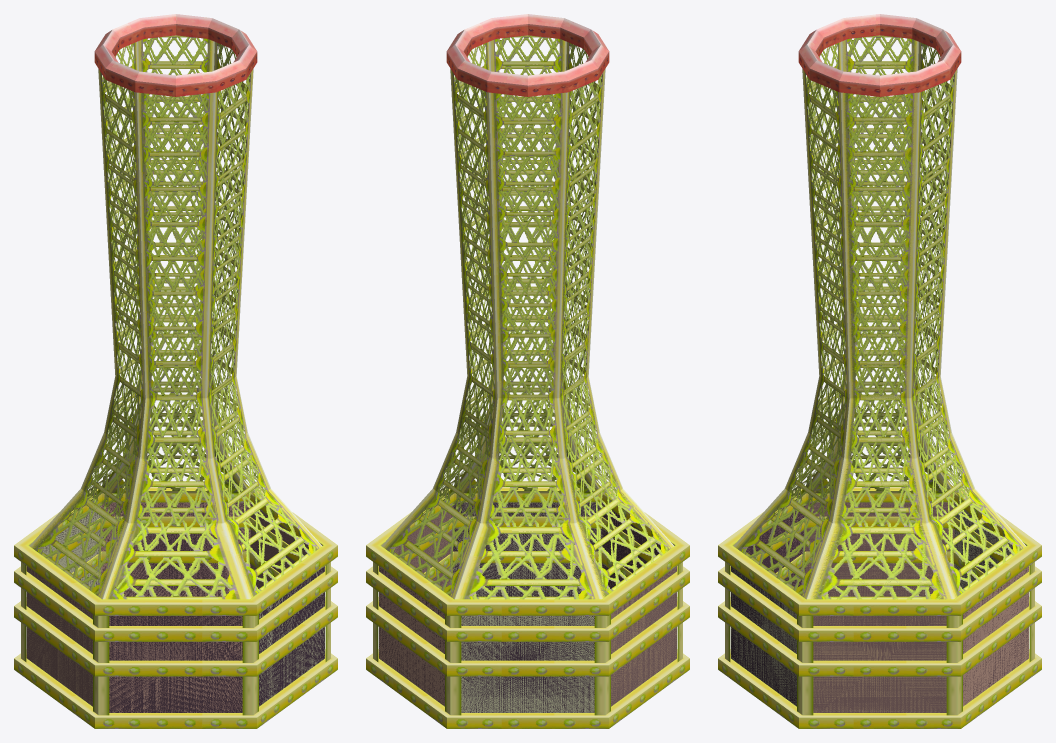
The model's file is riccobasket.dae.
3 views of the same model, side by side, from view 1: azimuth 30°, elevation 25°; view 2: azimuth 150°, elevation 25°; view 3: azimuth 270°, elevation 25° (orthographic).
Parts seen in each view (by area): view 1: m0, m1; view 2: m0, m1; view 3: m0, m1.
Part boxes in pixels (x1=…): m0: x1=14, y1=14, x2=337, y2=728; m1: x1=26, y1=502, x2=324, y2=712; m0: x1=366, y1=14, x2=689, y2=728; m1: x1=379, y1=502, x2=676, y2=712; m0: x1=718, y1=14, x2=1041, y2=728; m1: x1=731, y1=502, x2=1028, y2=712.
Size of the model in its own units: 2236 by 5494 by 2581.
